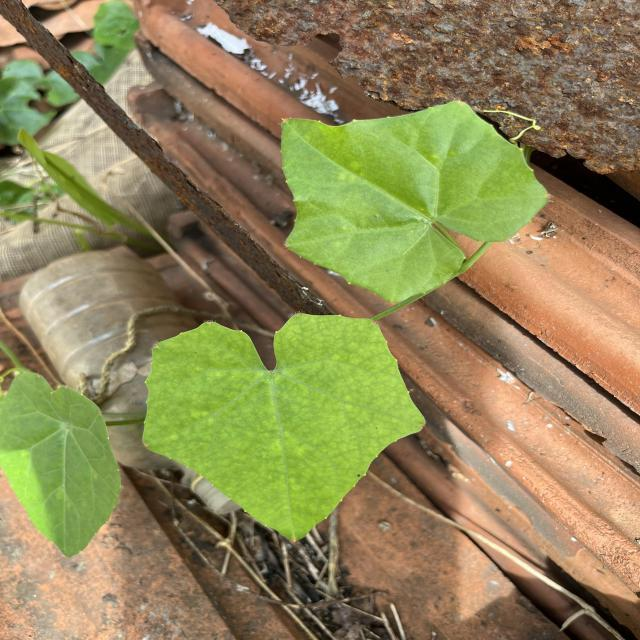Coccinia grandis: (140, 310, 430, 544), (278, 100, 552, 306)
